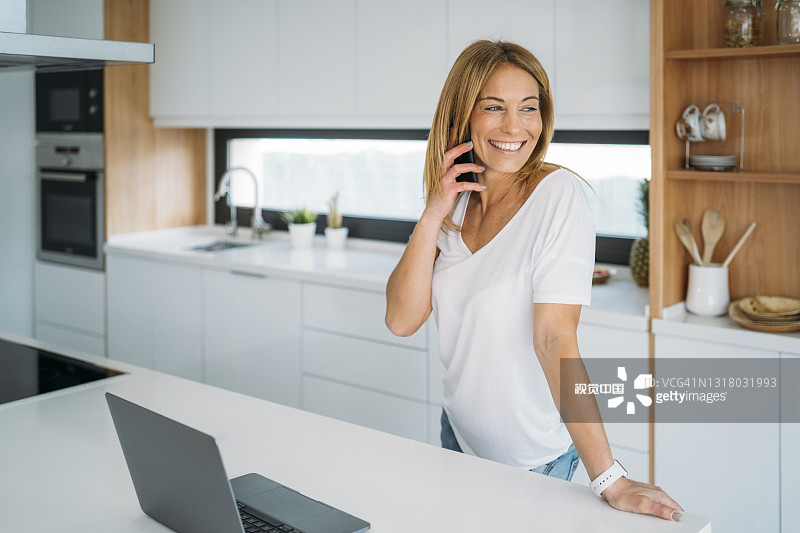calling: (406, 111, 498, 241)
